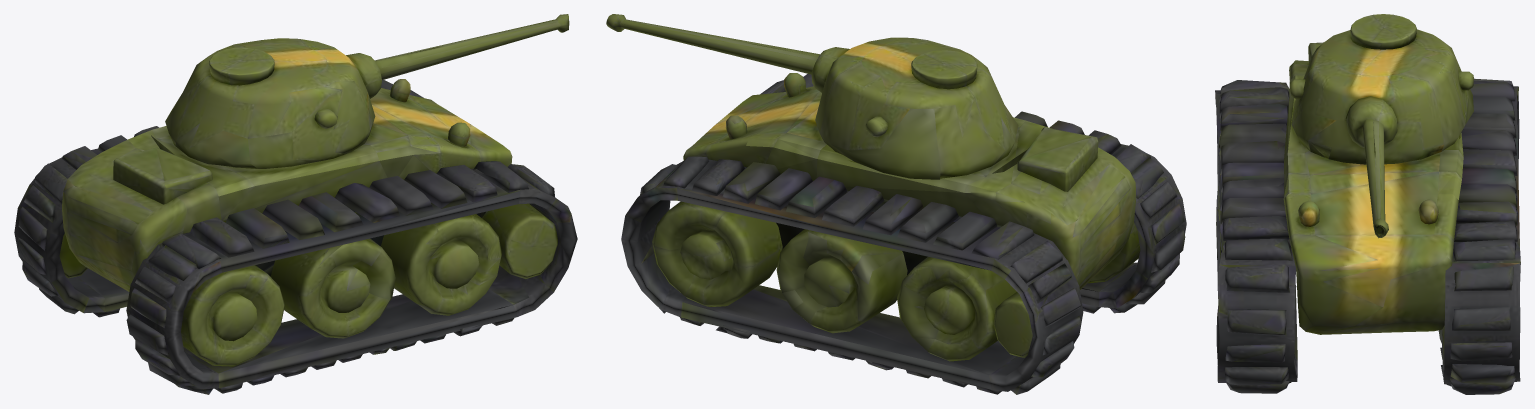
File: scout.glb
3 renders of one model, left to right at view 1: azimuth 30°, elevation 25°; view 2: azimuth 150°, elevation 25°; view 3: azimuth 270°, elevation 25°, orthographic. The views are drawn at different scales.
Parts seen in each view (by area): view 1: hull, turret; view 2: hull, turret; view 3: hull, turret.
Boxes of the visible parts, <box> form: hull: <box>14,79,577,394</box>; turret: <box>151,14,569,168</box>; hull: <box>621,73,1186,394</box>; turret: <box>606,14,1027,179</box>; hull: <box>1215,42,1520,394</box>; turret: <box>1290,14,1473,238</box>.
Size of the model in its own units: 1.05 by 0.5183 by 0.5418.
Materials: 1 (1 with a texture image).
